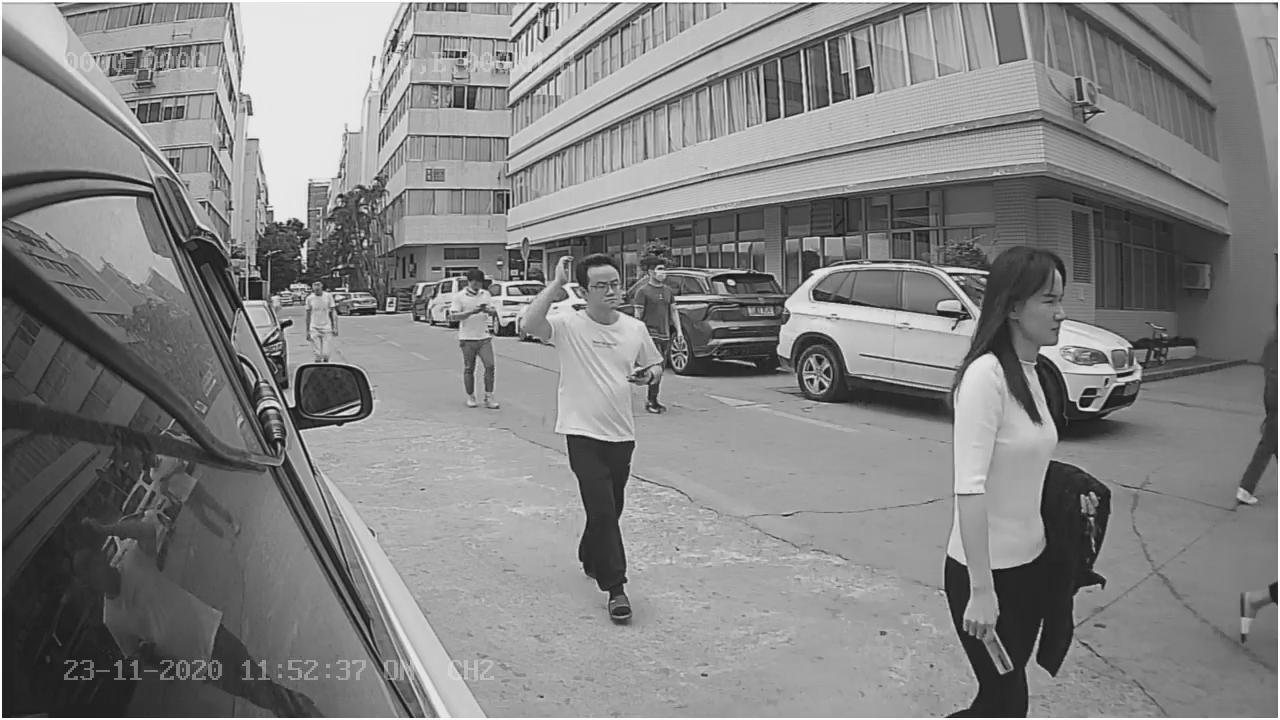person: (934, 237, 1071, 716), (530, 248, 649, 602)
